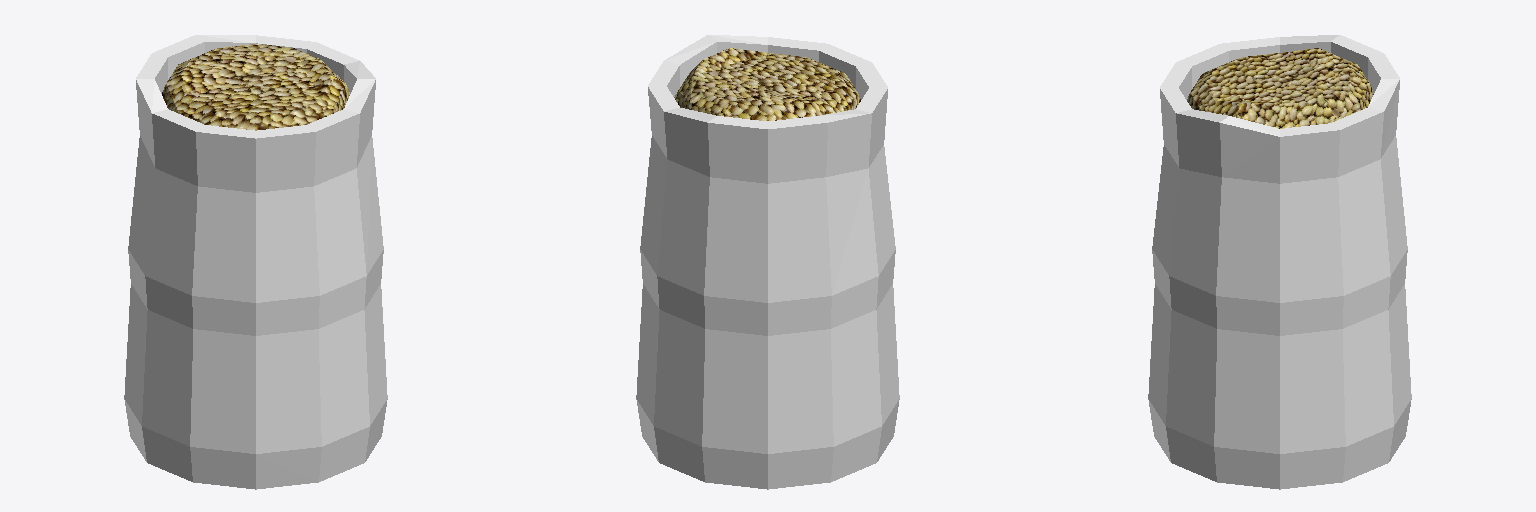
3 renders of one model, left to right at view 1: azimuth 30°, elevation 25°; view 2: azimuth 150°, elevation 25°; view 3: azimuth 270°, elevation 25°, orthographic.
Visible parts, largest first — view 1: Form10; view 2: Form10; view 3: Form10.
Part boxes in pixels (bbox=[...]): Form10: bbox=[124, 35, 387, 489]; Form10: bbox=[636, 35, 899, 489]; Form10: bbox=[1148, 35, 1411, 489].
Bounding box in the file's own units: 2.49 × 3.76 × 2.49.
Materials: 2 (1 with a texture image).